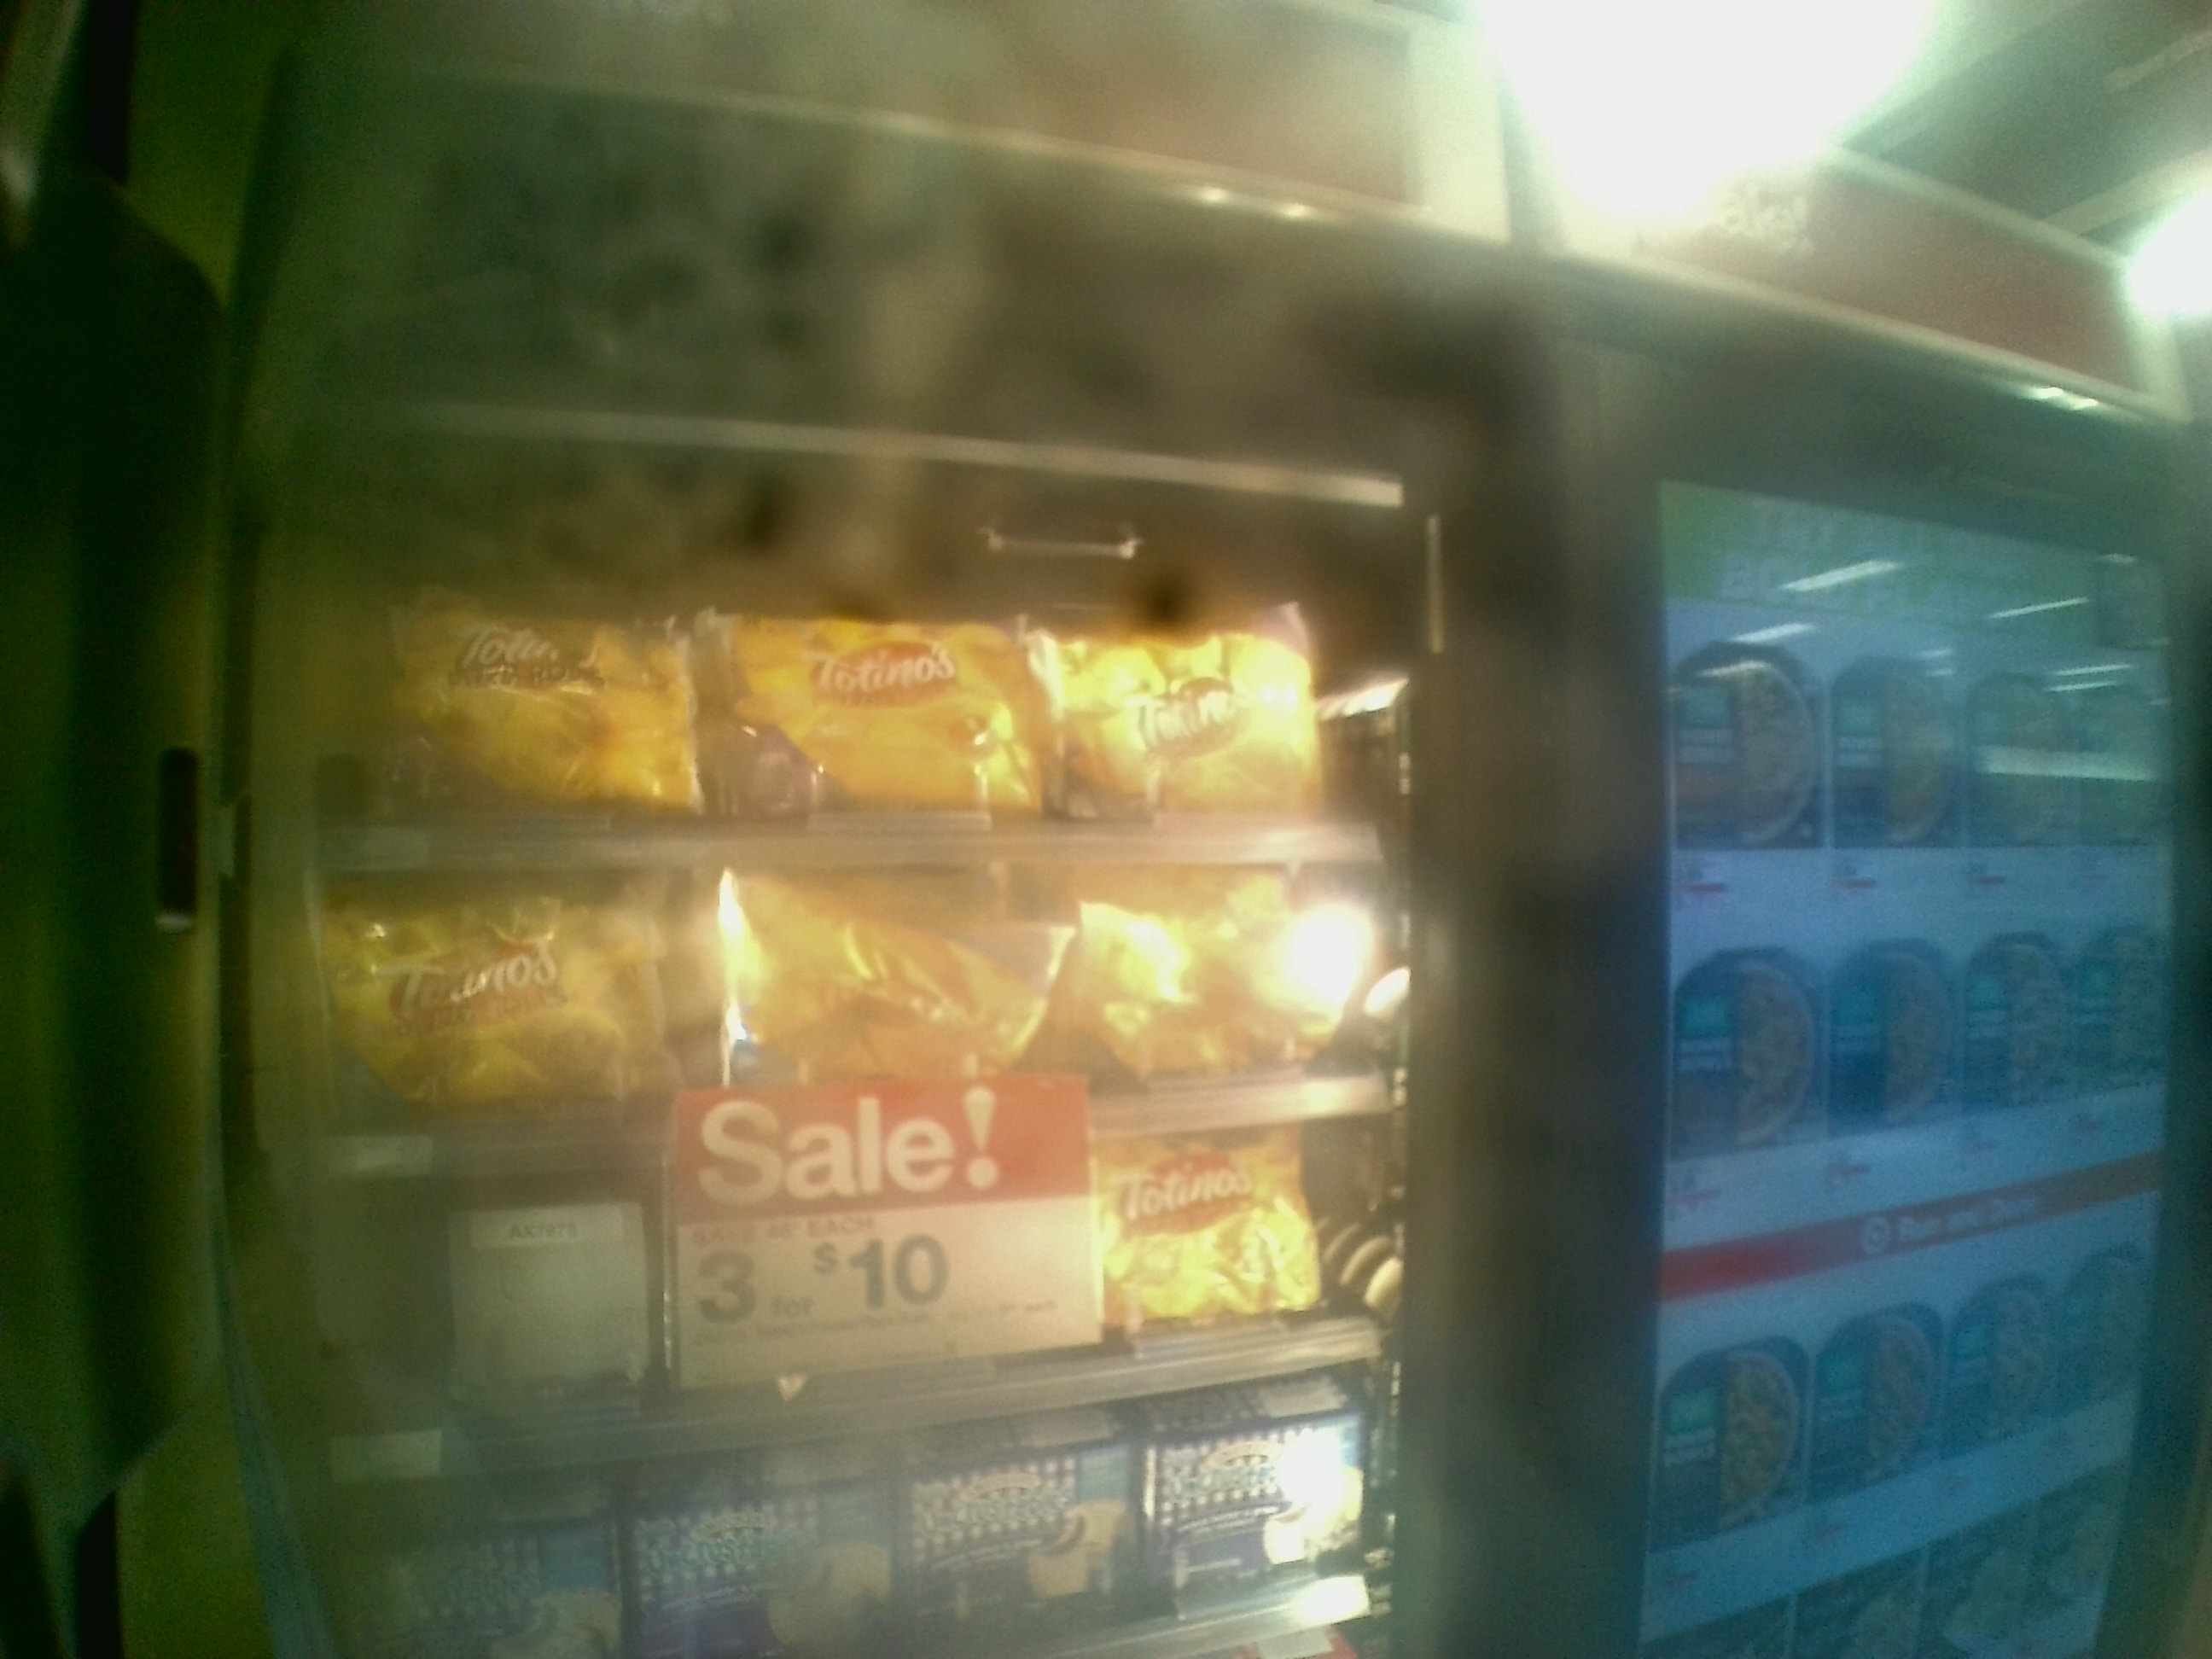shelf: (298, 842, 1397, 1168)
